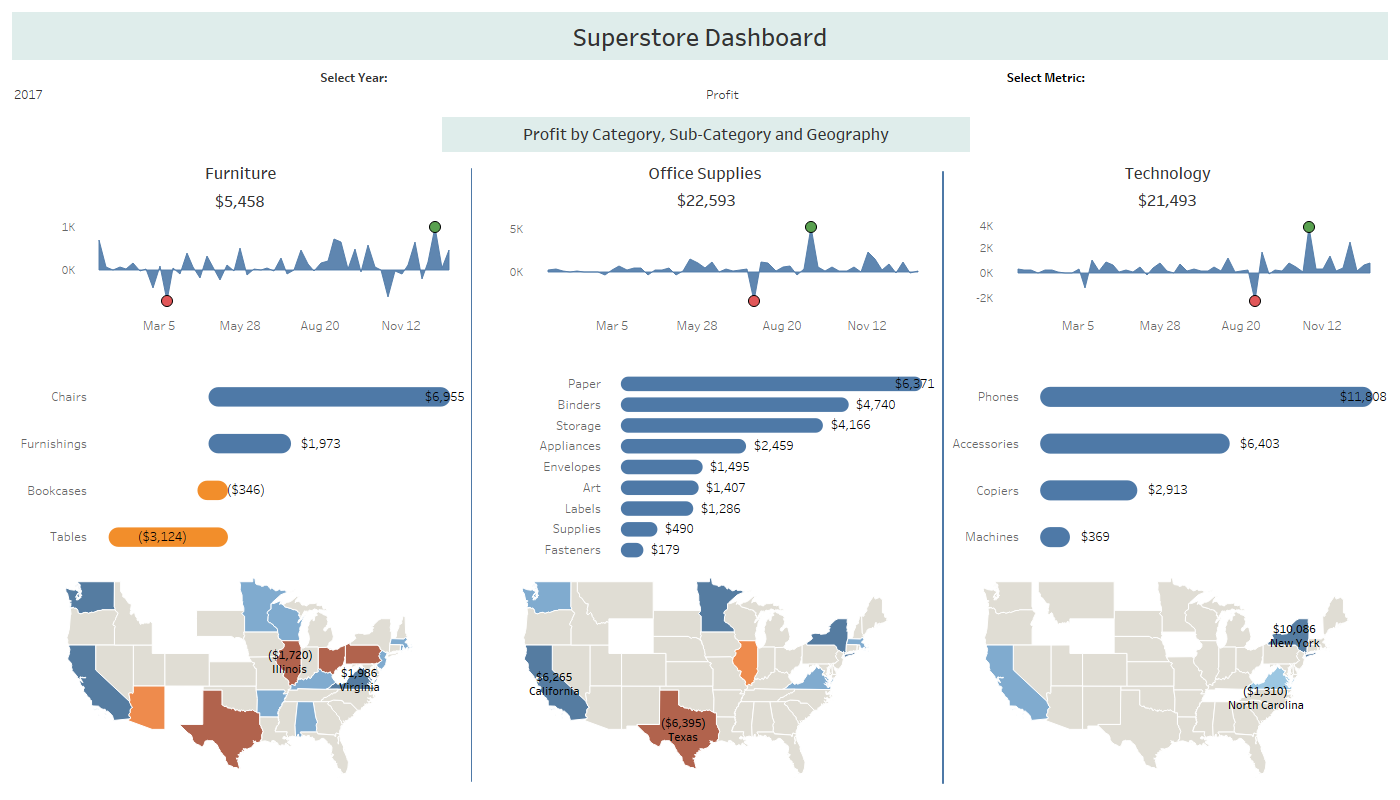

The page's visual inventory and layout, read from the dashboard file:
{"tool":"tableau","page":{"name":"Superstore Dashboard","canvas":[1400,800],"ordinal":0},"visuals":[{"type":"title","box":[8,8,1384,55.8]},{"type":"filter","title":"Sales Trend Furniture","param":"[Sample - Superstore].[yr:Order Date:ok]","box":[8,63.8,692,53.4]},{"type":"parameter","param":"[Parameters].[Parameter 3]","box":[700,63.8,692,53.4]},{"type":"blank","box":[8,117.2,434.3,35.1]},{"type":"worksheet","title":"Sales/Profit","mark":"Automatic","box":[442.2,117.2,527.7,35.1]},{"type":"blank","box":[970,117.2,422,35.1]},{"type":"worksheet","title":"Total Sales/Profit Furniture","mark":"Automatic","box":[8,152.2,462.2,61.8]},{"type":"worksheet","title":"Total Sales/Profit Office Supplies","mark":"Automatic","box":[470.2,152.2,470.1,61.4]},{"type":"worksheet","title":"Total Sales/Profit Technology","mark":"Automatic","box":[940.3,152.2,451.7,61.4]},{"type":"blank","box":[471.3,168,0.9,614]},{"type":"blank","box":[941.7,171,1.9,613]},{"type":"worksheet","title":"Sales Trend Office Supplies","mark":"Area","rows":["Calculation_695243206596276224"],"cols":["Order Date"],"box":[470.2,213.6,470.1,130]},{"type":"worksheet","title":"Sales Trend Technology","mark":"Area","rows":["Calculation_695243206596276224"],"cols":["Order Date"],"box":[940.3,213.6,451.7,130]},{"type":"worksheet","title":"Sales Trend Furniture","mark":"Circle","rows":["Calculation_695243206596276224"],"cols":["Order Date"],"box":[8,214,462.2,129.6]},{"type":"blank","box":[8,343.6,462.2,25.3]},{"type":"blank","box":[470.2,343.6,470.1,25.3]},{"type":"blank","box":[940.3,343.6,451.7,25.3]},{"type":"worksheet","title":"Sales - Furniture","mark":"Line","rows":["Sub-Category"],"box":[8,368.9,462.2,194.6]},{"type":"worksheet","title":"Sales - Office Supplies","mark":"Line","rows":["Sub-Category"],"box":[470.2,368.9,470.1,194.6]},{"type":"worksheet","title":"Sales - Technology","mark":"Line","rows":["Sub-Category"],"box":[940.3,368.9,451.7,194.6]},{"type":"worksheet","title":"Sales Furniture by Region","mark":"Multipolygon","box":[8,563.6,462.2,228.4]},{"type":"worksheet","title":"Sales Office Supplies by Region","mark":"Multipolygon","box":[470.2,563.6,470.1,228.4]},{"type":"worksheet","title":"Sales Technology by Region","mark":"Multipolygon","box":[940.3,563.6,451.7,228.4]}]}

Visuals, with their boxes in screenshot pixels (x1, y1, x2, y2), scaled from the page's 1400x800 canvas onto the 1400x800 screenshot:
title: 8 8 1392 64
"Sales Trend Furniture" filter: 8 64 700 117
parameter: 700 64 1392 117
blank: 8 117 442 152
"Sales/Profit" worksheet: 442 117 970 152
blank: 970 117 1392 152
"Total Sales/Profit Furniture" worksheet: 8 152 470 214
"Total Sales/Profit Office Supplies" worksheet: 470 152 940 214
"Total Sales/Profit Technology" worksheet: 940 152 1392 214
blank: 471 168 472 782
blank: 942 171 944 784
"Sales Trend Office Supplies" worksheet (Area marks): 470 214 940 344
"Sales Trend Technology" worksheet (Area marks): 940 214 1392 344
"Sales Trend Furniture" worksheet (Circle marks): 8 214 470 344
blank: 8 344 470 369
blank: 470 344 940 369
blank: 940 344 1392 369
"Sales - Furniture" worksheet (Line marks): 8 369 470 564
"Sales - Office Supplies" worksheet (Line marks): 470 369 940 564
"Sales - Technology" worksheet (Line marks): 940 369 1392 564
"Sales Furniture by Region" worksheet (Multipolygon marks): 8 564 470 792
"Sales Office Supplies by Region" worksheet (Multipolygon marks): 470 564 940 792
"Sales Technology by Region" worksheet (Multipolygon marks): 940 564 1392 792
